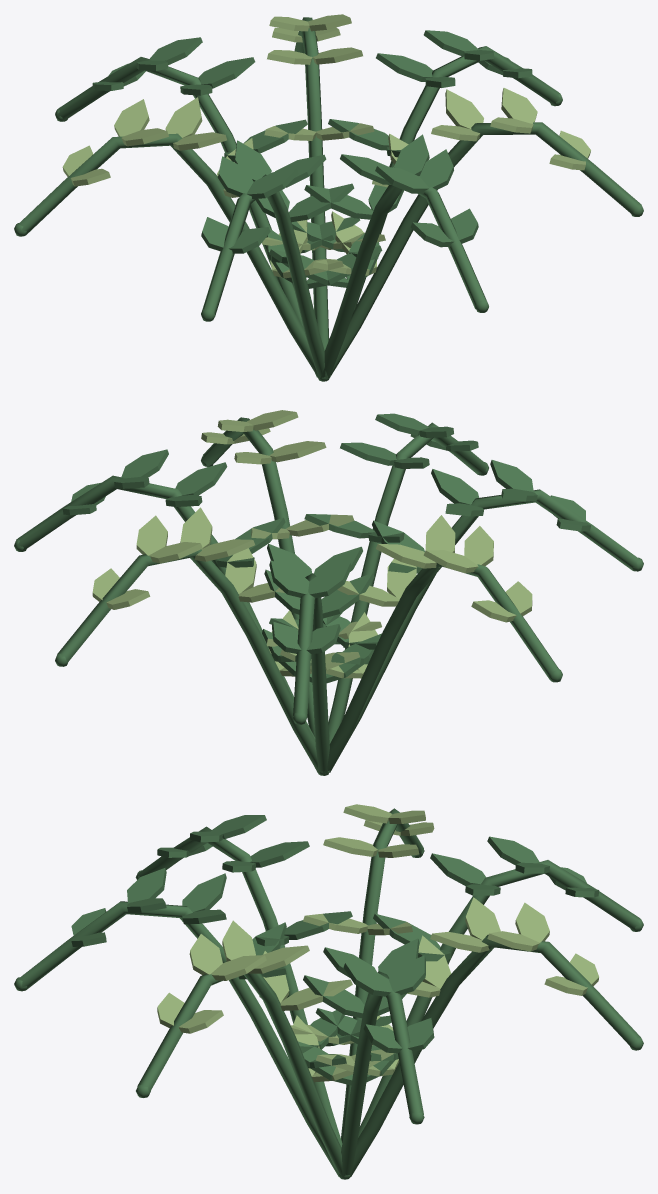
Rendered from almanac-gardens-unfurling-fern-9c8d3117__22040.glb.
3 renders of one model, top to bottom at view 1: azimuth 30°, elevation 25°; view 2: azimuth 150°, elevation 25°; view 3: azimuth 270°, elevation 25°, orthographic. The views are drawn at different scales.
Parts seen in each view (by area): view 1: unfurling-fern-leaf, unfurling-fern-sage; view 2: unfurling-fern-leaf, unfurling-fern-sage; view 3: unfurling-fern-leaf, unfurling-fern-sage.
Boxes of the visible parts, <box> form: unfurling-fern-leaf: <box>14,17,643,381</box>; unfurling-fern-sage: <box>62,14,590,278</box>; unfurling-fern-leaf: <box>14,413,643,775</box>; unfurling-fern-sage: <box>92,410,532,678</box>; unfurling-fern-leaf: <box>14,808,643,1179</box>; unfurling-fern-sage: <box>157,804,598,1082</box>.
Size of the model in its own units: 0.8389 by 0.4222 by 0.8185.
